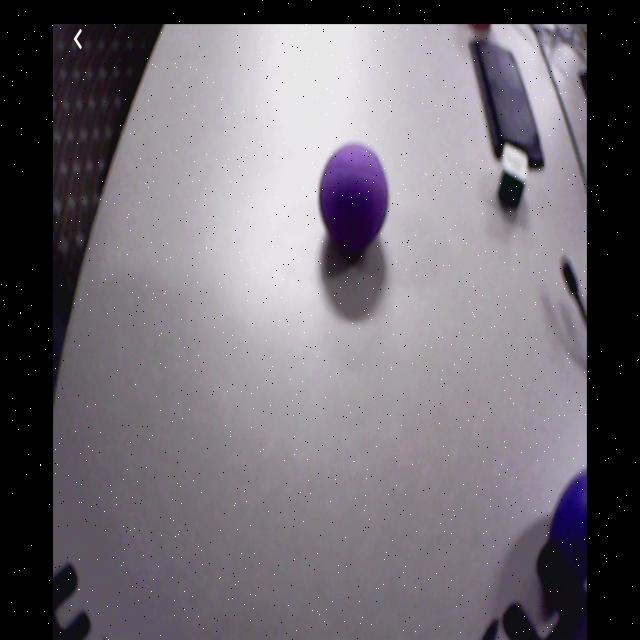ball: (319, 142, 391, 249), (550, 472, 587, 578)
